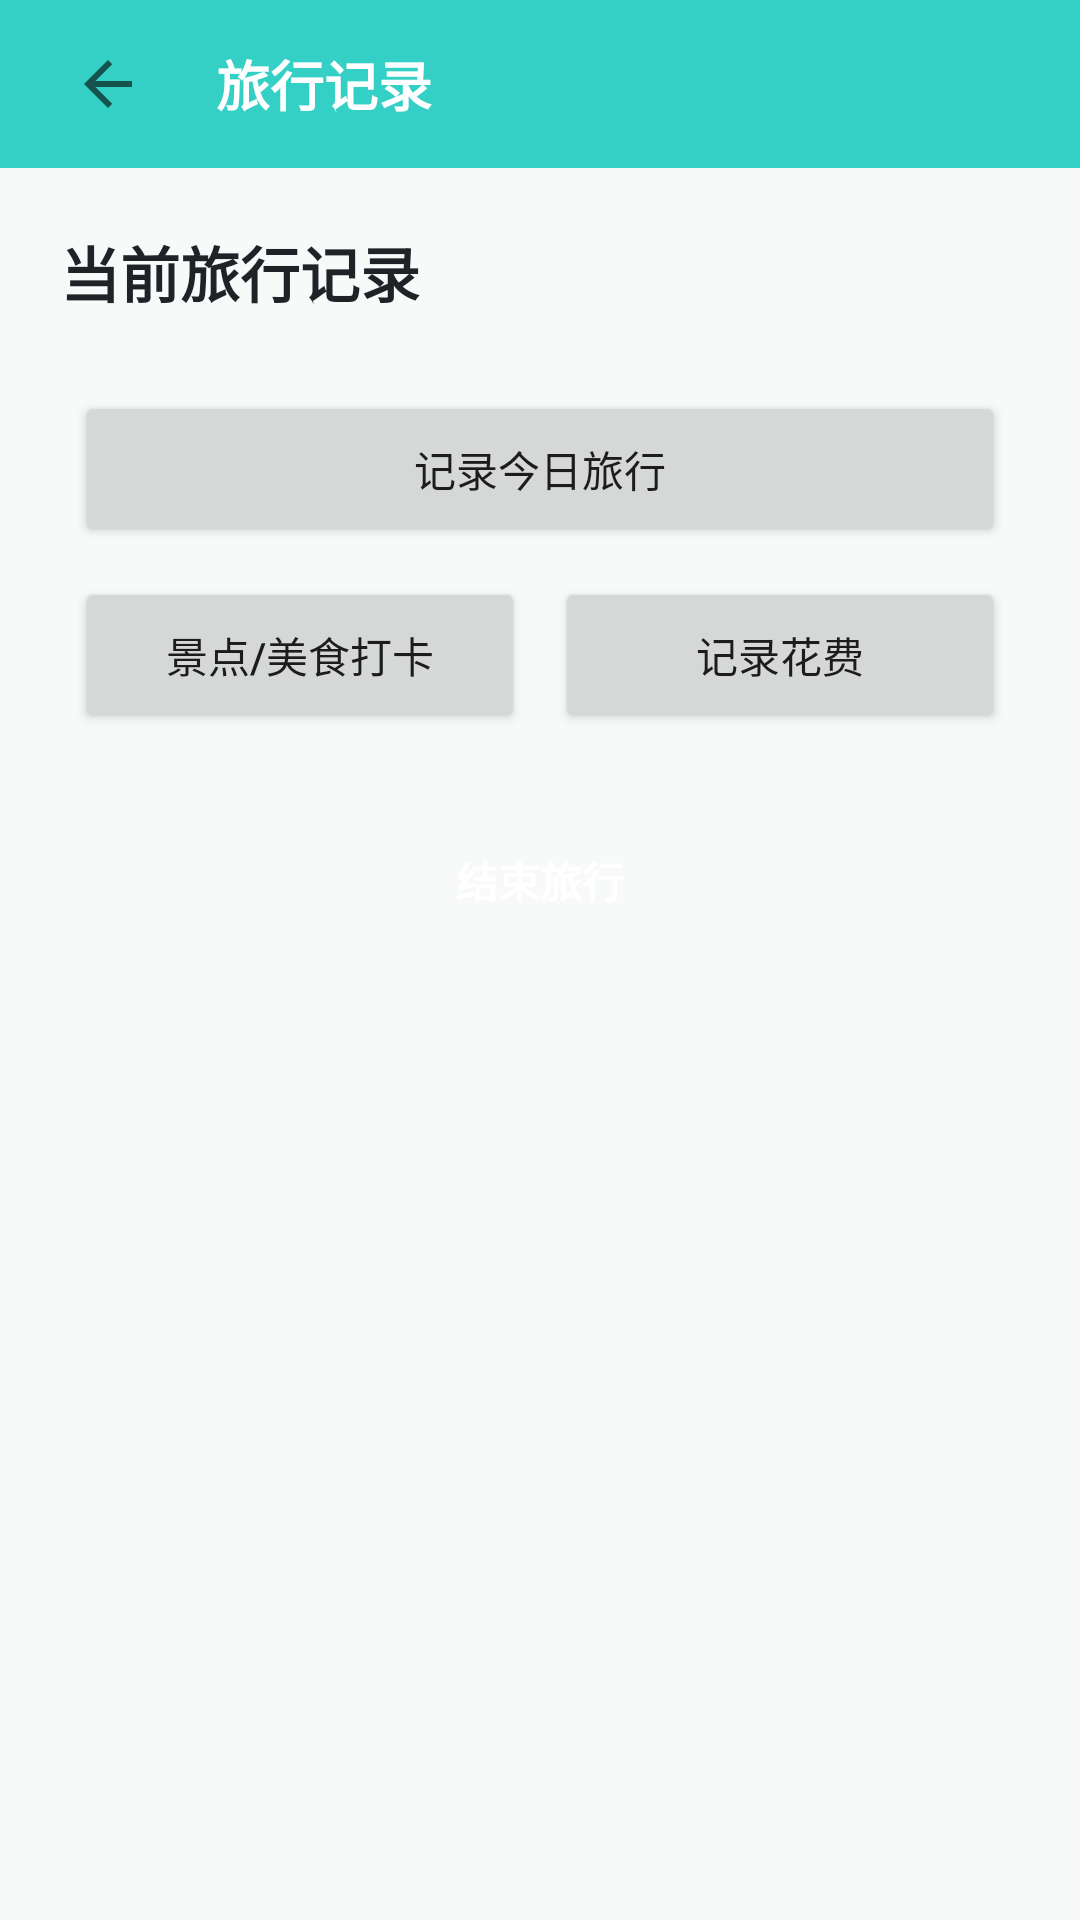

Icons on this 1080 × 1920 Android screen, each with its box as (x1, y1, x2, y2):
返回: (84, 60, 132, 108)
